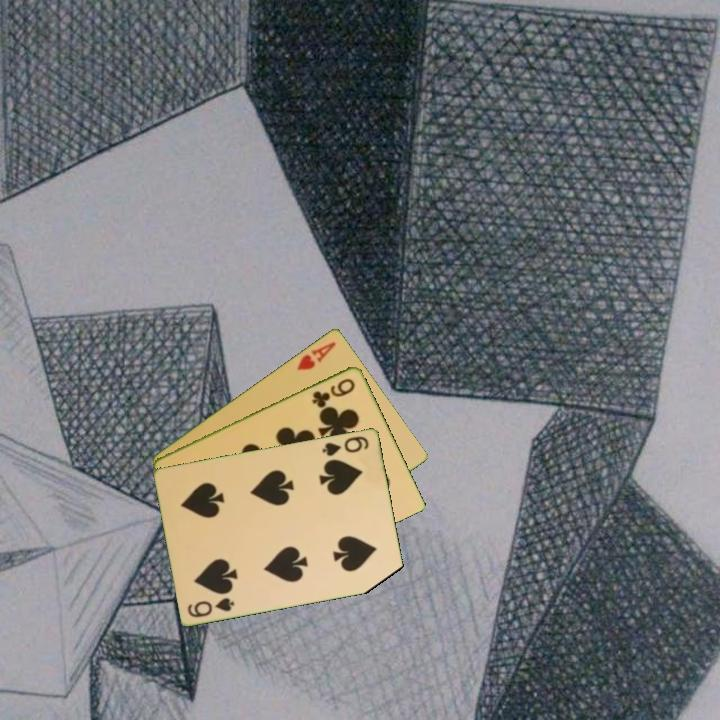6s: (319, 432, 372, 459), (184, 594, 238, 620)
9c: (309, 374, 358, 409)
Ah: (293, 337, 339, 373)
